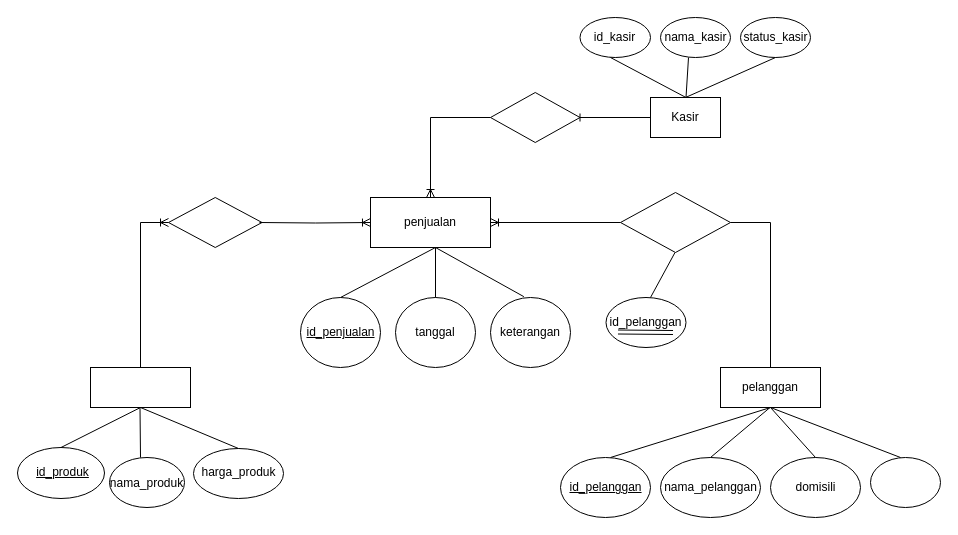
Image size: 958x535. Some labels were removed from this diagram. The box of each missing label's shape, as (x1, y1, x2, y2) in pixels:
melakukan: (490, 92, 580, 142)
membeli: (620, 192, 730, 252)
memiliki: (168, 196, 262, 248)
no_hp: (870, 456, 940, 508)
produk: (90, 366, 190, 408)
